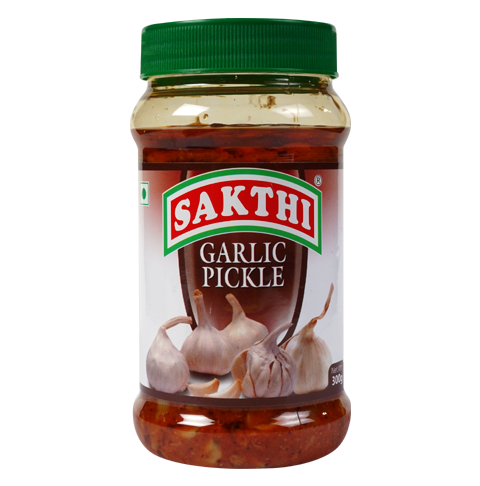VEG: (139, 181, 150, 206)
